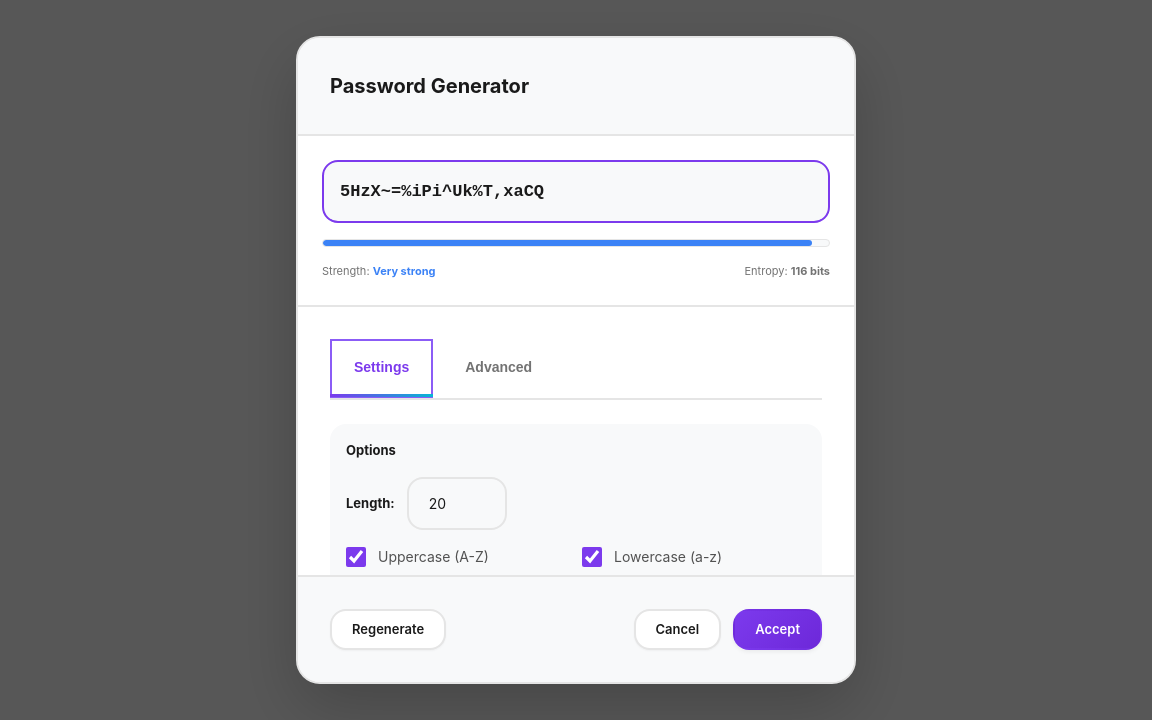
Test: UI-32 : « Copié » écrit dans une région role="status" présente avant la copie
The image size is (1152, 720).
Click the button with class "generator-password" at (442, 192), box [322,160,830,223]
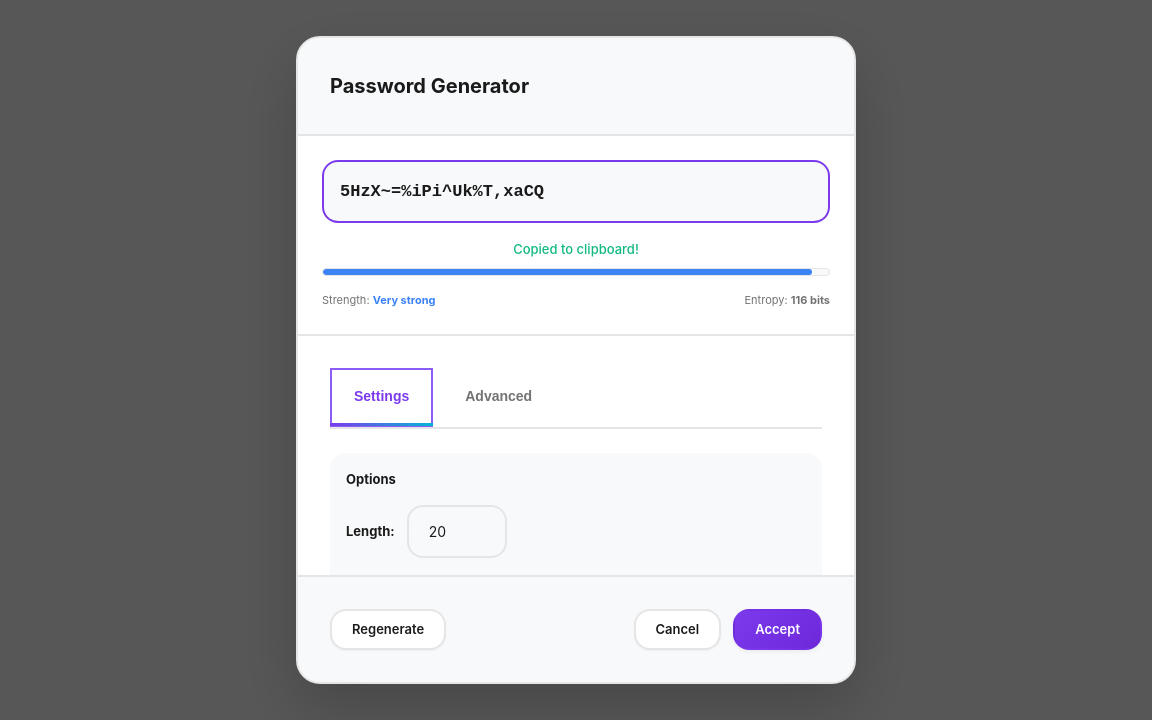
Expected: the message "Copied to clipboard!" is shown, [513,241,639,257]
